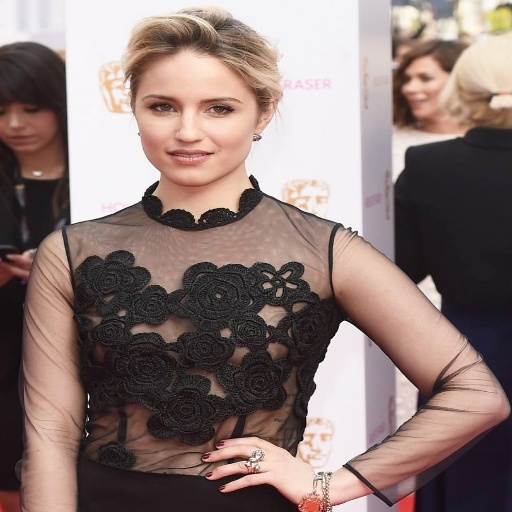hand: (180, 442, 332, 501), (1, 248, 34, 281)
